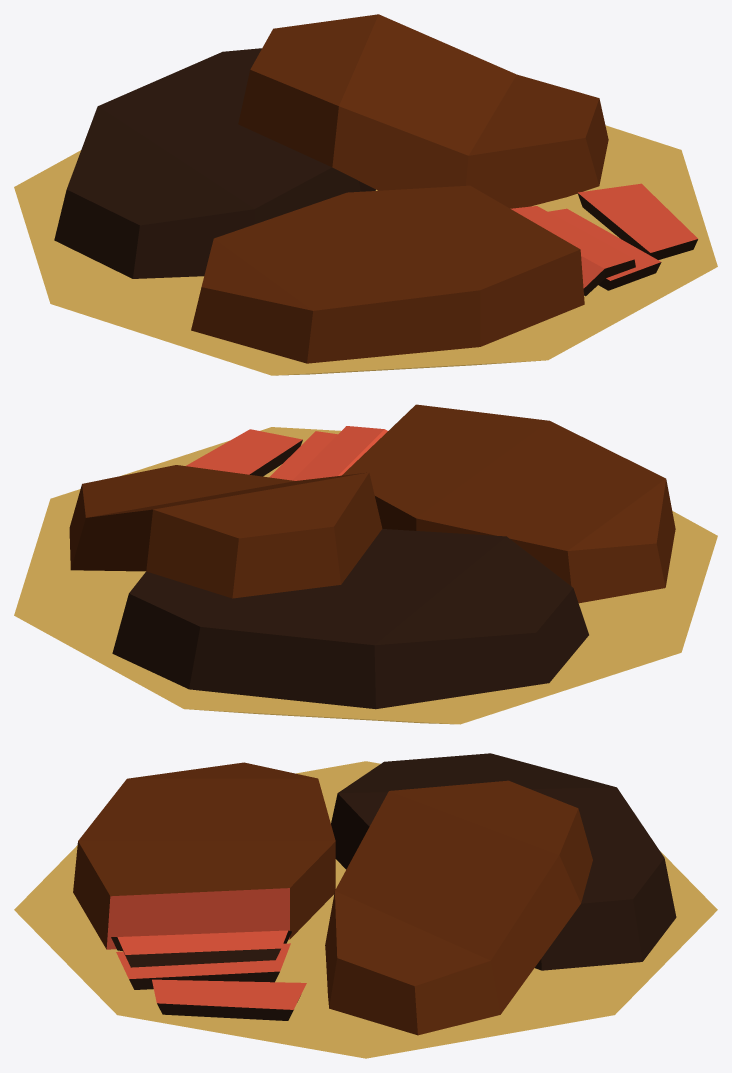
The model's file is Food 01 Meat.fbx.
3 views of the same model, one above another, from view 1: azimuth 30°, elevation 25°; view 2: azimuth 150°, elevation 25°; view 3: azimuth 270°, elevation 25° (orthographic). The views are drawn at different scales.
Visible parts, largest first — view 1: Food_01_Meat; view 2: Food_01_Meat; view 3: Food_01_Meat.
Boxes of the visible parts, x1,y1,x2,y2 form: Food_01_Meat: (14, 14, 717, 375); Food_01_Meat: (14, 404, 717, 724); Food_01_Meat: (14, 753, 717, 1058).
Size of the model in its own units: 48.52 by 12.85 by 48.52.
